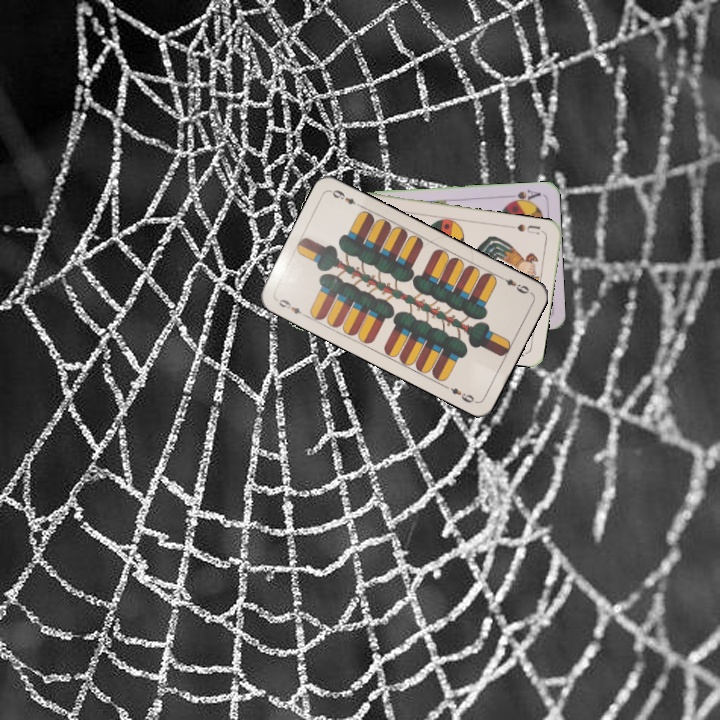E9: (272, 295, 310, 320), (496, 272, 533, 296)
SA: (503, 186, 544, 206)
SU: (506, 220, 546, 237)
